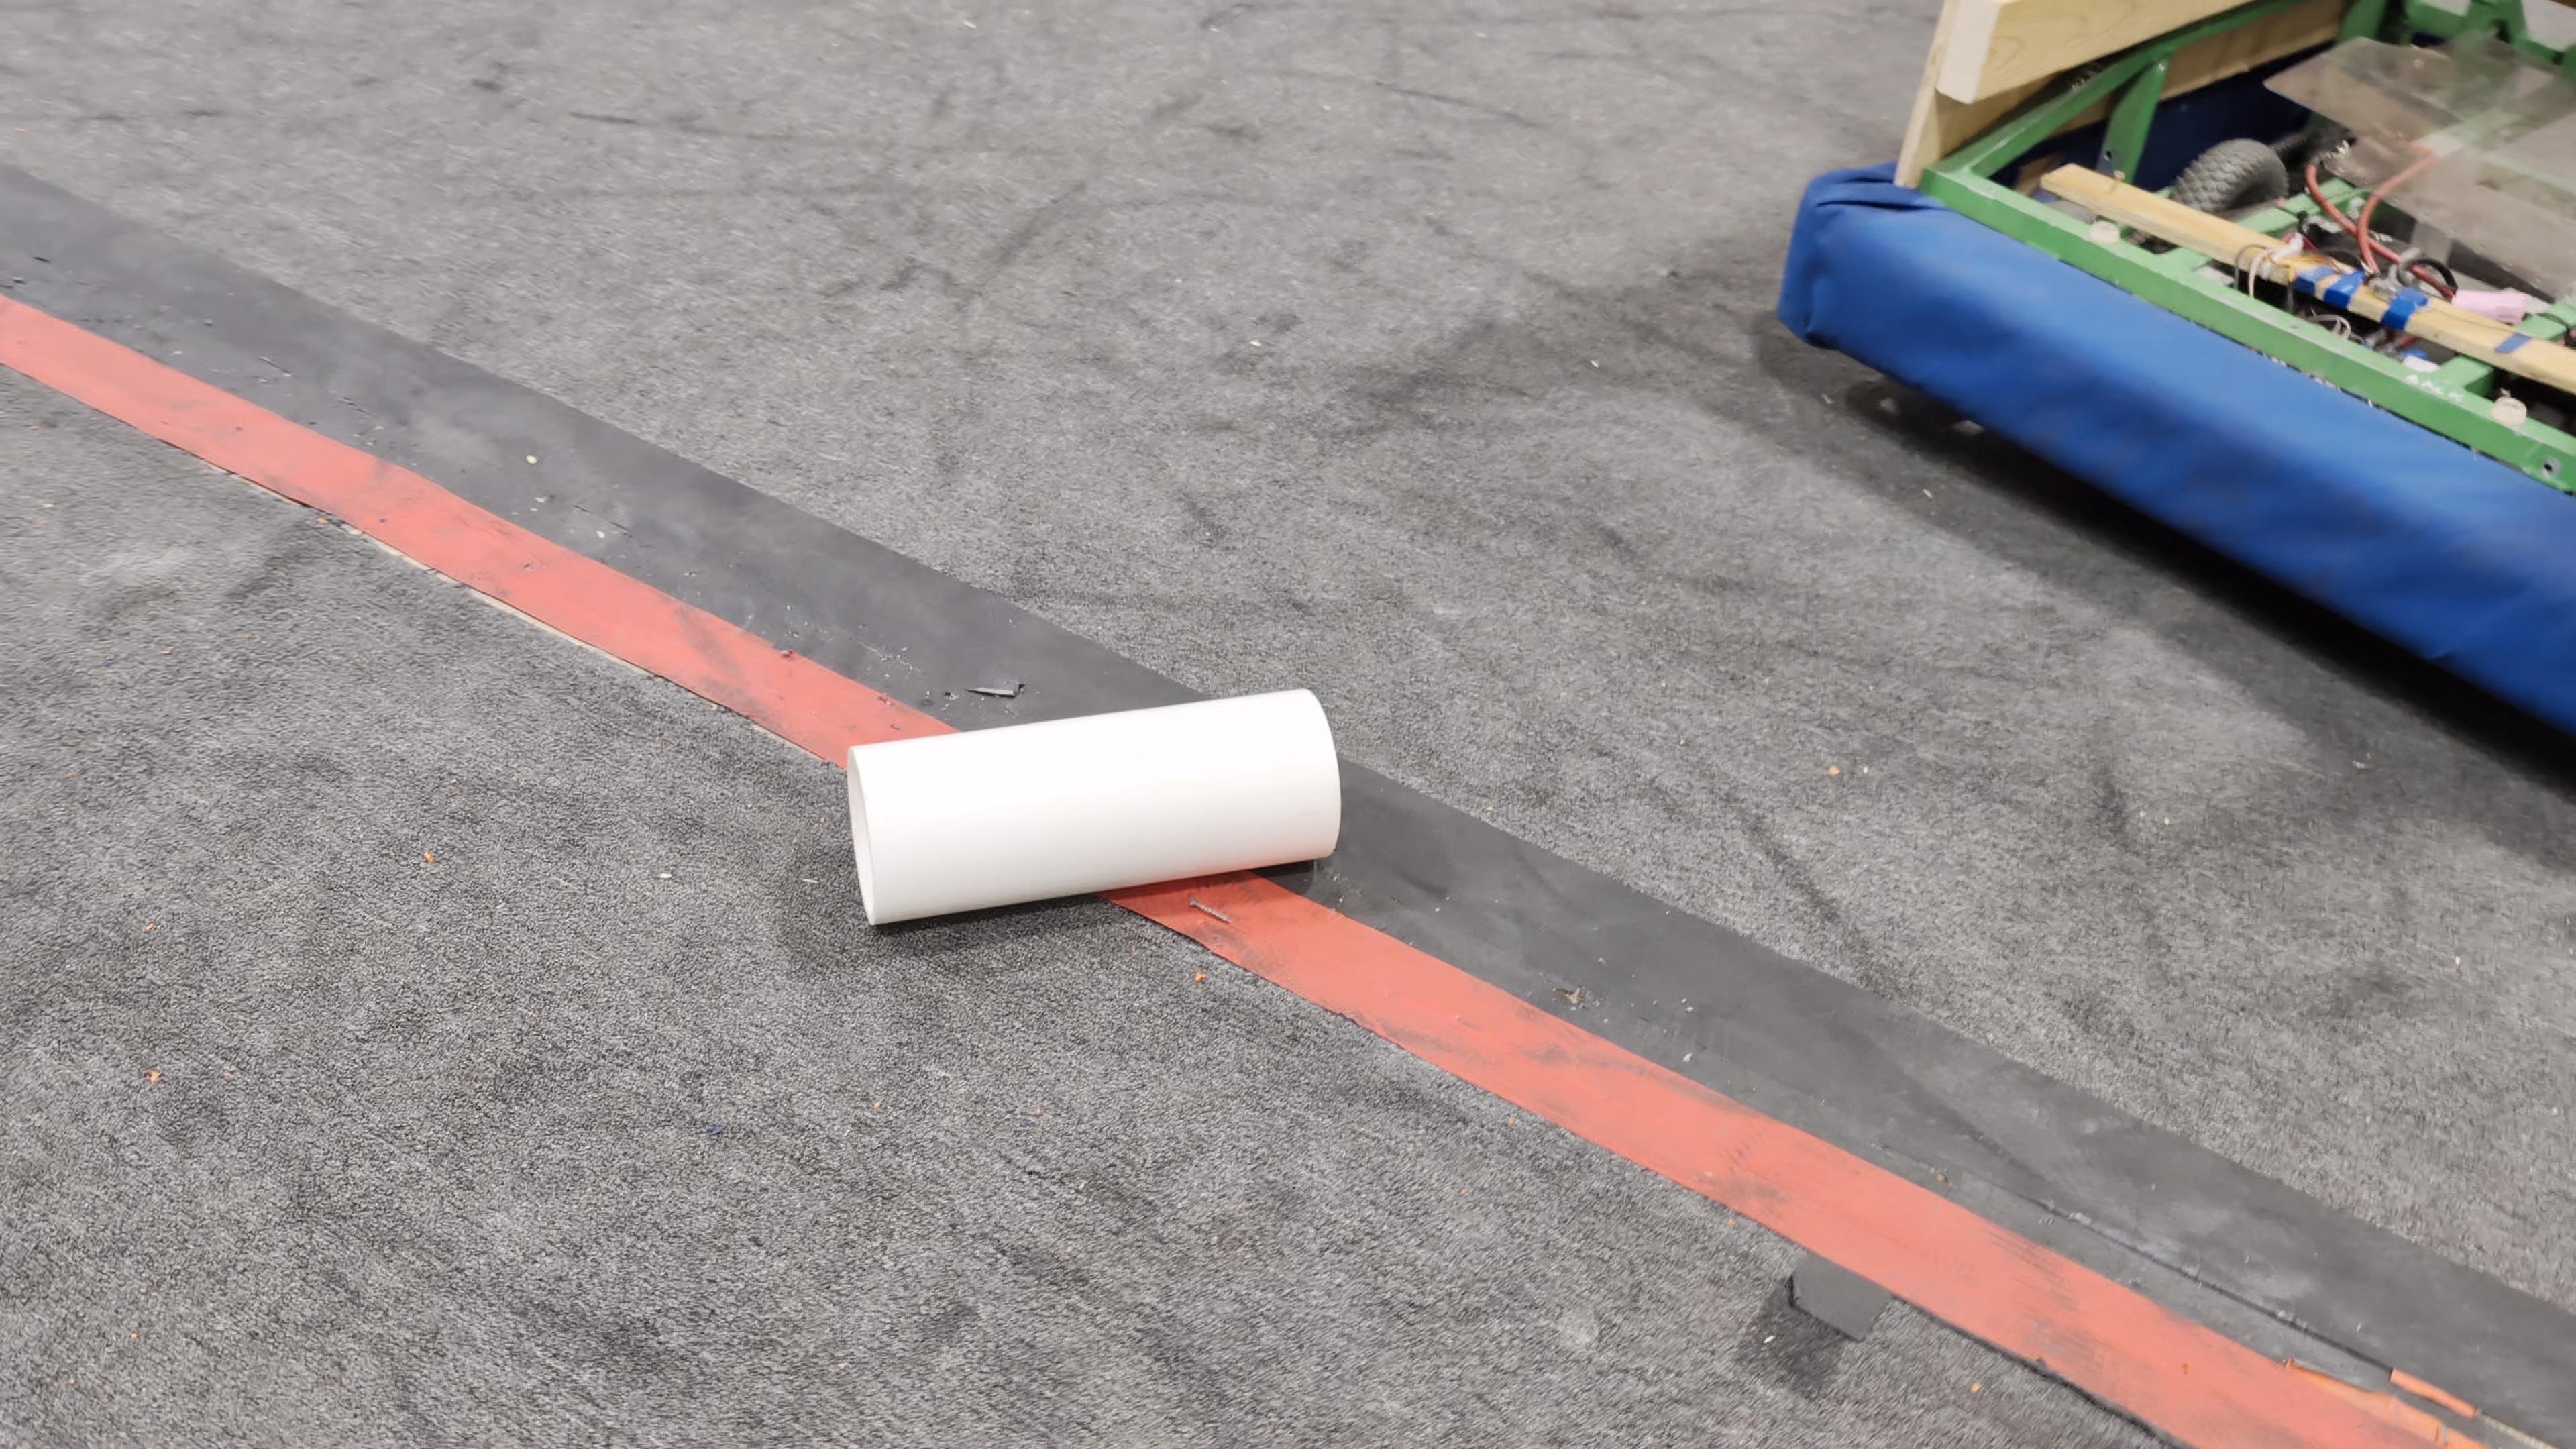coral: (846, 683, 1345, 927)
